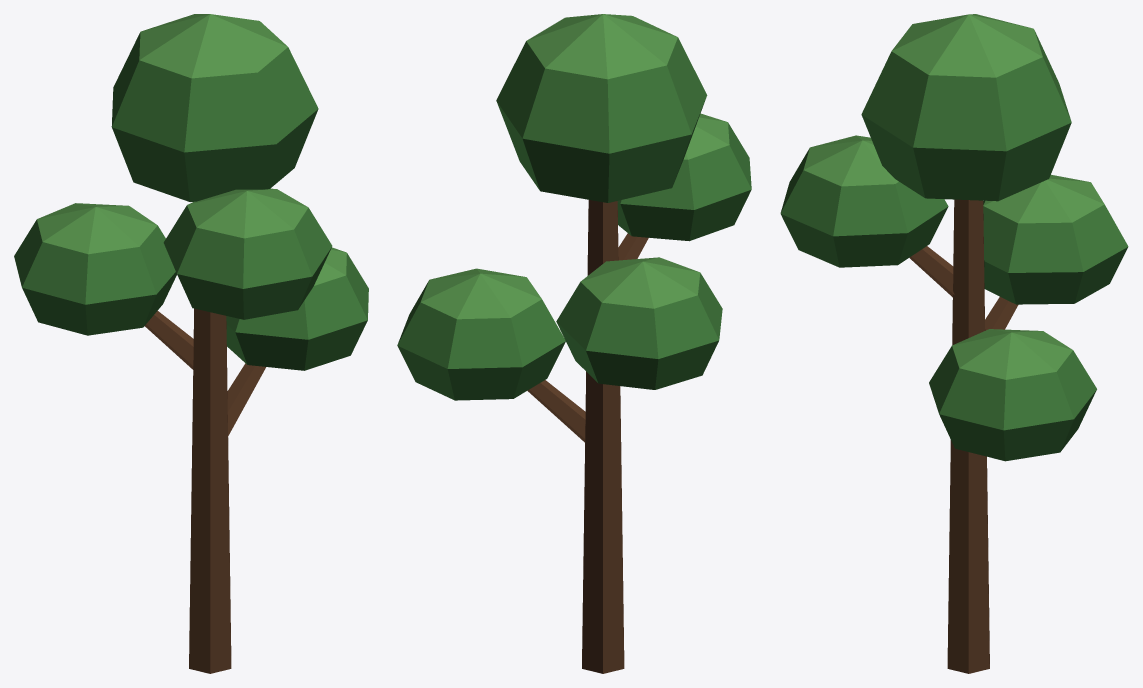
The model's file is tree_thin_dark.glb.
The picture shows the model from 3 angles, left to right: view 1: azimuth 30°, elevation 25°; view 2: azimuth 150°, elevation 25°; view 3: azimuth 270°, elevation 25°; orthographic projection.
Visible parts, largest first — view 1: tree_thin_dark; view 2: tree_thin_dark; view 3: tree_thin_dark.
Boxes of the visible parts, x1=… form: tree_thin_dark: x1=14, y1=14, x2=368, y2=673; tree_thin_dark: x1=397, y1=14, x2=751, y2=673; tree_thin_dark: x1=780, y1=14, x2=1128, y2=673.
Size of the model in its own units: 0.6996 by 1.32 by 0.6425.
1 material, 1 textured.
